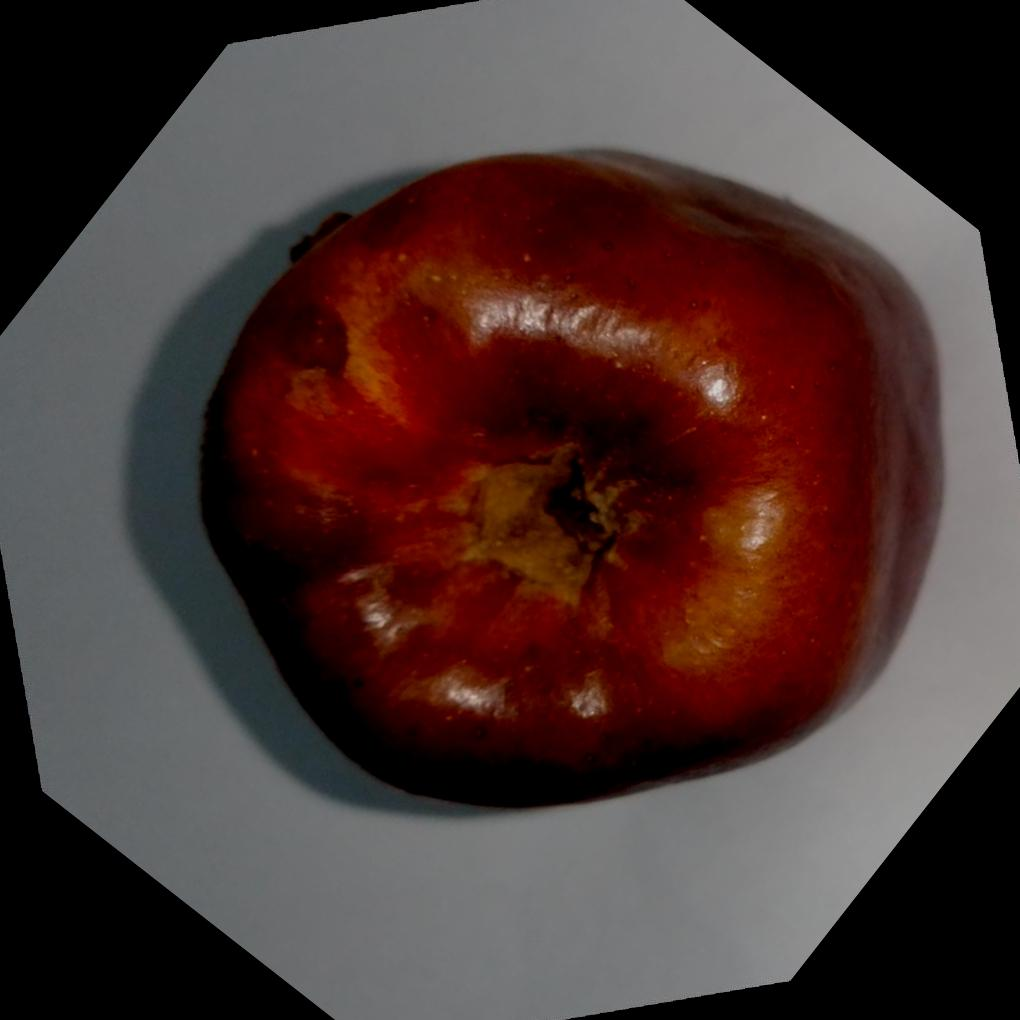FreshOrange: (200, 148, 943, 813)
